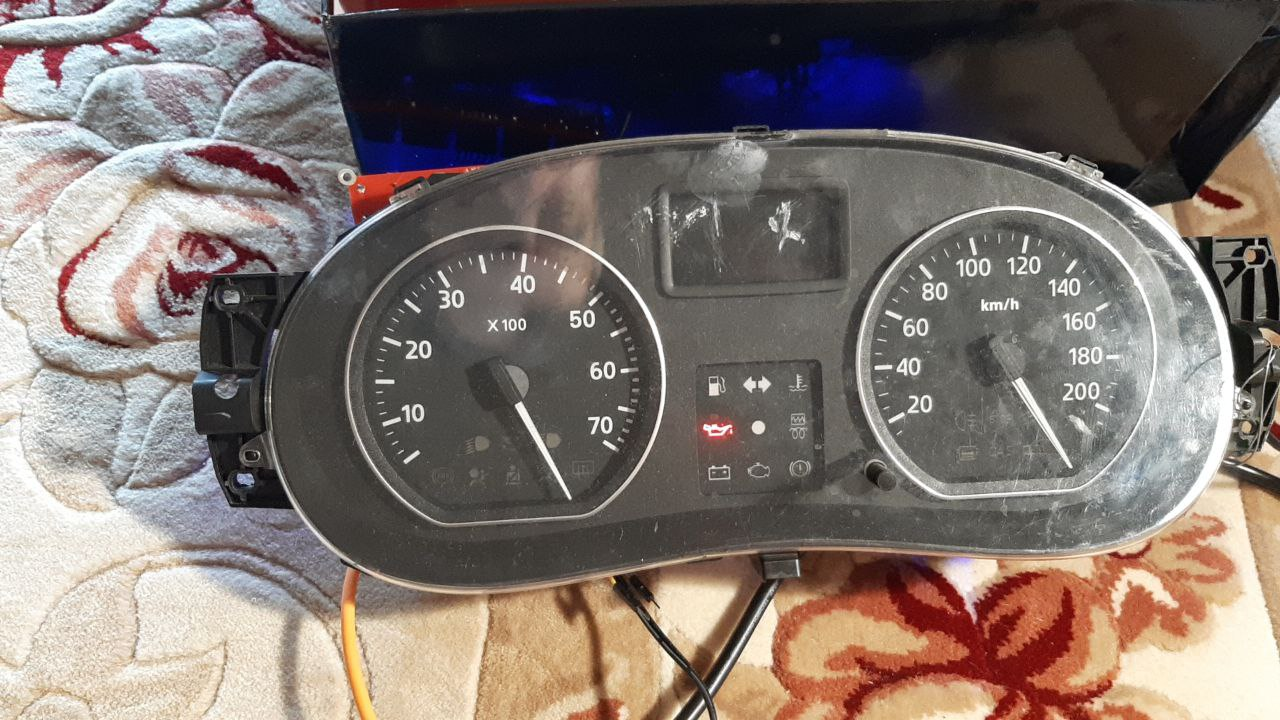oil: (697, 420, 736, 440)
